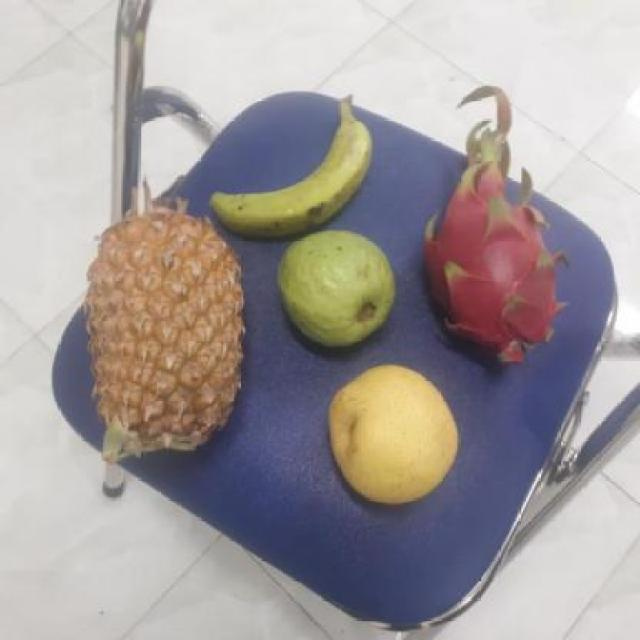banana: (197, 93, 372, 239)
dragon fruit: (419, 174, 563, 366)
guava: (275, 232, 396, 346)
pear: (322, 366, 462, 505)
pineapple: (70, 221, 244, 450)
